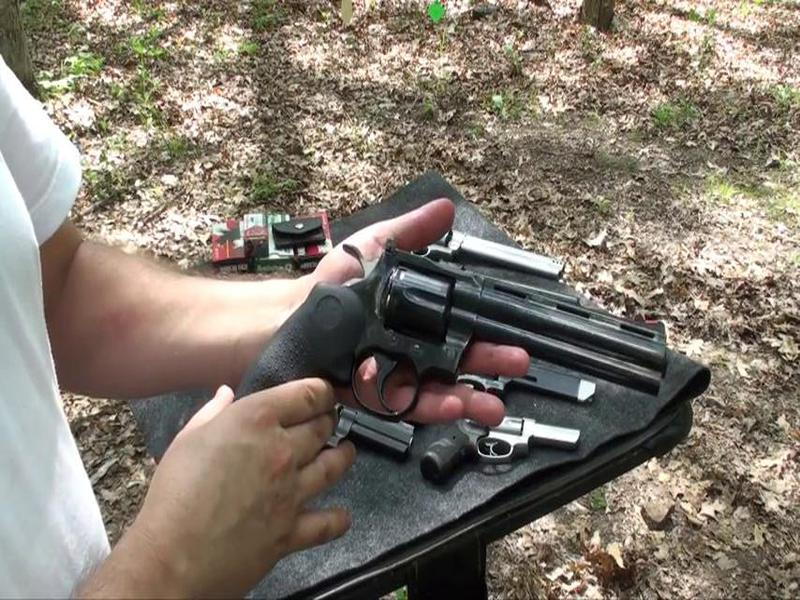Revolver: (227, 219, 667, 475)
